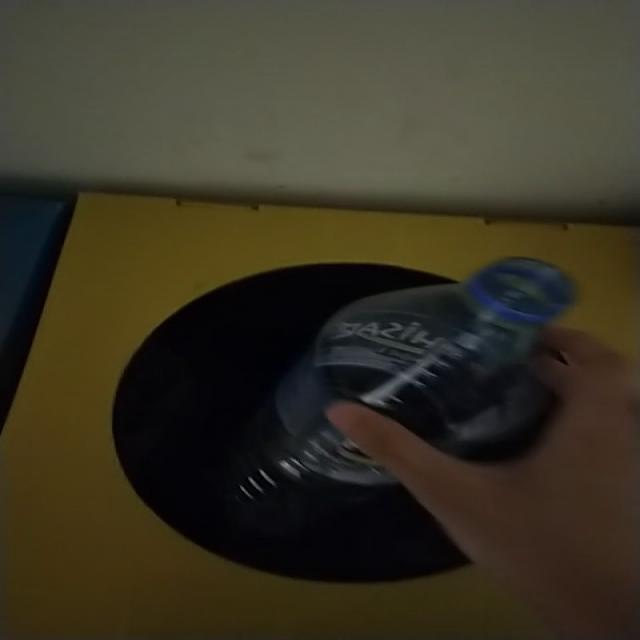plastic: (232, 258, 576, 504)
